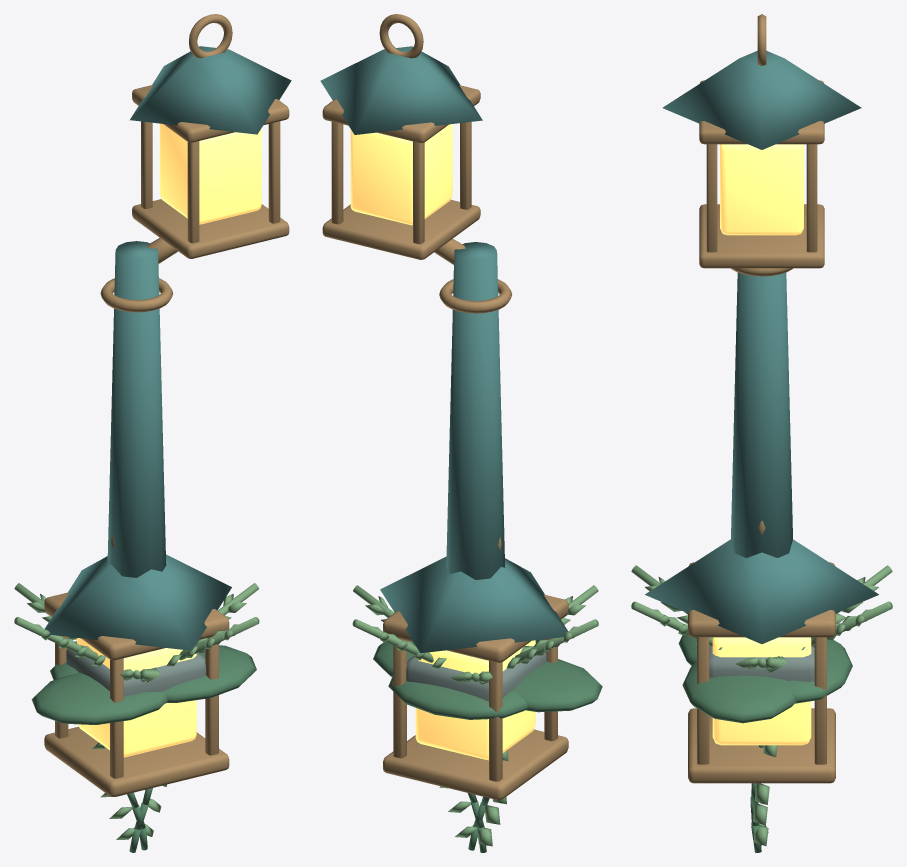
The model's file is world11-props-v1.glb.
3 views of the same model, side by side, from view 1: azimuth 30°, elevation 25°; view 2: azimuth 150°, elevation 25°; view 3: azimuth 270°, elevation 25° (orthographic). The views are drawn at different scales.
Parts seen in each view (by area): view 1: rain-lantern-post-patina-teal, rain-lantern-post-wet-copper, lantern-teal-hip-roof.001, rain-frame-lantern-wet-copper, lantern-warm-glass, storm-moss-fern-moss-dark, lantern-warm-glass.001, storm-moss-fern-fern-light, post-stone-foot, storm-hanging-fern-moss-dark, storm-hanging-fern-fern-light; view 2: rain-lantern-post-patina-teal, rain-lantern-post-wet-copper, rain-frame-lantern-wet-copper, lantern-teal-hip-roof.001, lantern-warm-glass, storm-moss-fern-moss-dark, lantern-warm-glass.001, storm-moss-fern-fern-light, post-stone-foot, storm-hanging-fern-fern-light, storm-hanging-fern-moss-dark; view 3: rain-lantern-post-patina-teal, lantern-teal-hip-roof.001, rain-frame-lantern-wet-copper, rain-lantern-post-wet-copper, lantern-warm-glass, storm-moss-fern-moss-dark, lantern-warm-glass.001, storm-moss-fern-fern-light, post-stone-foot, storm-hanging-fern-fern-light.
Boxes of the visible parts, box(x1,y1,x2,y2) form: rain-lantern-post-patina-teal: box(107, 46, 291, 577); rain-lantern-post-wet-copper: box(100, 14, 289, 312); lantern-teal-hip-roof.001: box(45, 554, 231, 650); rain-frame-lantern-wet-copper: box(44, 535, 229, 796); lantern-warm-glass: box(159, 123, 261, 224); storm-moss-fern-moss-dark: box(31, 645, 256, 724); lantern-warm-glass.001: box(77, 638, 196, 757); storm-moss-fern-fern-light: box(14, 583, 259, 682); post-stone-foot: box(66, 641, 205, 702); storm-hanging-fern-moss-dark: box(127, 788, 152, 852); storm-hanging-fern-fern-light: box(92, 742, 166, 839); rain-lantern-post-patina-teal: box(320, 46, 505, 579); rain-lantern-post-wet-copper: box(322, 14, 512, 313); rain-frame-lantern-wet-copper: box(383, 537, 568, 799); lantern-teal-hip-roof.001: box(380, 556, 567, 653); lantern-warm-glass: box(350, 124, 452, 225); storm-moss-fern-moss-dark: box(373, 642, 602, 719); lantern-warm-glass.001: box(415, 640, 535, 760); storm-moss-fern-fern-light: box(352, 585, 598, 684); post-stone-foot: box(406, 652, 546, 700); storm-hanging-fern-fern-light: box(439, 750, 508, 846); storm-hanging-fern-moss-dark: box(467, 793, 489, 852); rain-lantern-post-patina-teal: box(662, 50, 861, 557); lantern-teal-hip-roof.001: box(645, 539, 878, 643); rain-frame-lantern-wet-copper: box(688, 521, 835, 783); rain-lantern-post-wet-copper: box(699, 14, 824, 276); lantern-warm-glass: box(720, 144, 803, 235); storm-moss-fern-moss-dark: box(678, 634, 852, 723); lantern-warm-glass.001: box(712, 637, 811, 745); storm-moss-fern-fern-light: box(631, 565, 892, 672); post-stone-foot: box(709, 646, 814, 681); storm-hanging-fern-fern-light: box(753, 745, 777, 846).
Bounding box in the file's own units: 1.8 × 5.07 × 1.38.
